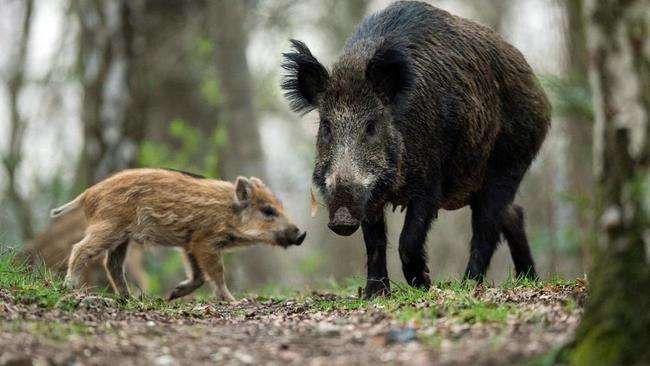boar: (282, 1, 560, 295), (46, 163, 310, 312)
